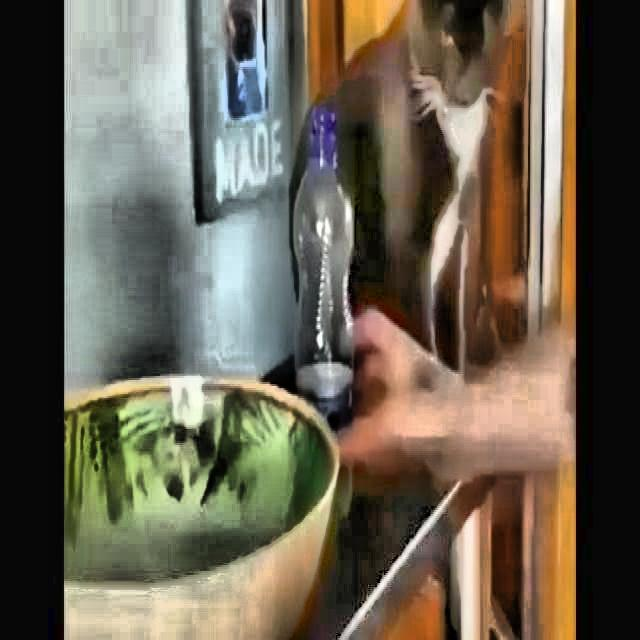plastic bottle: (292, 101, 354, 426)
